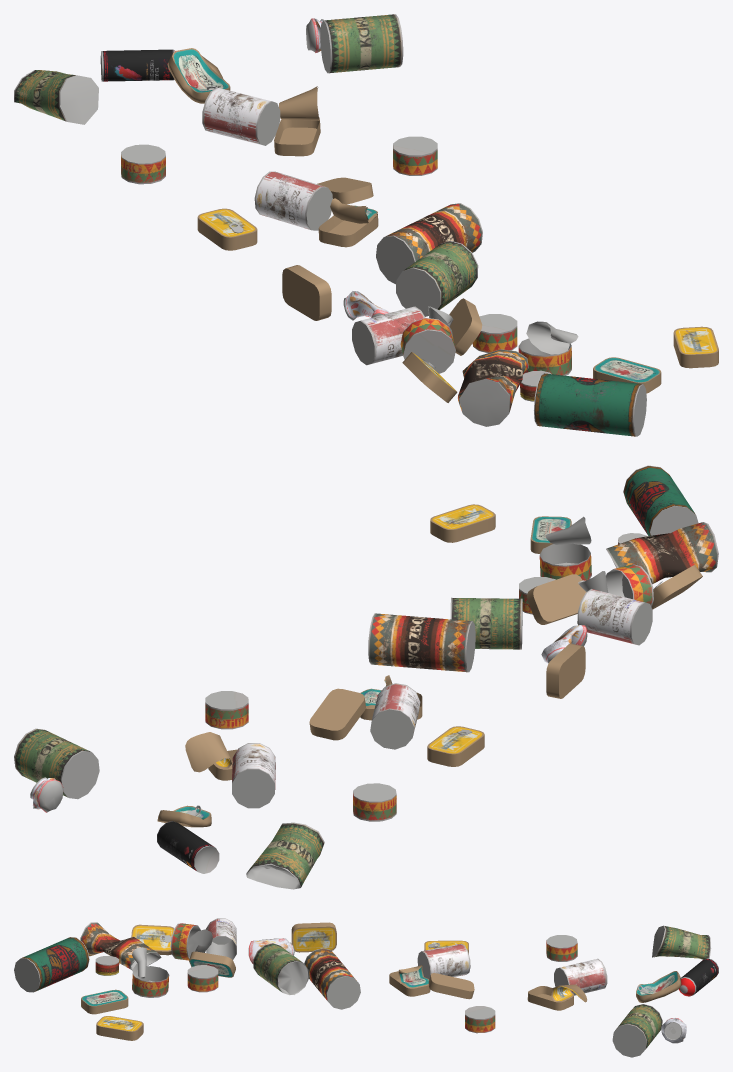
Rendered from SM_TrashSet_01_B.fbx.
3 views of the same model, one above another, from view 1: azimuth 30°, elevation 25°; view 2: azimuth 150°, elevation 25°; view 3: azimuth 270°, elevation 25° (orthographic). The views are drawn at different scales.
Parts seen in each view (by area): view 1: SM_TrashSet_01_B; view 2: SM_TrashSet_01_B; view 3: SM_TrashSet_01_B.
Boxes of the visible parts, bbox=[...] form: SM_TrashSet_01_B: bbox=[14, 14, 718, 436]; SM_TrashSet_01_B: bbox=[14, 465, 718, 889]; SM_TrashSet_01_B: bbox=[14, 918, 718, 1057].
Size of the model in its own units: 81.79 by 214 by 13.38.
Materials: 1 (1 with a texture image).
